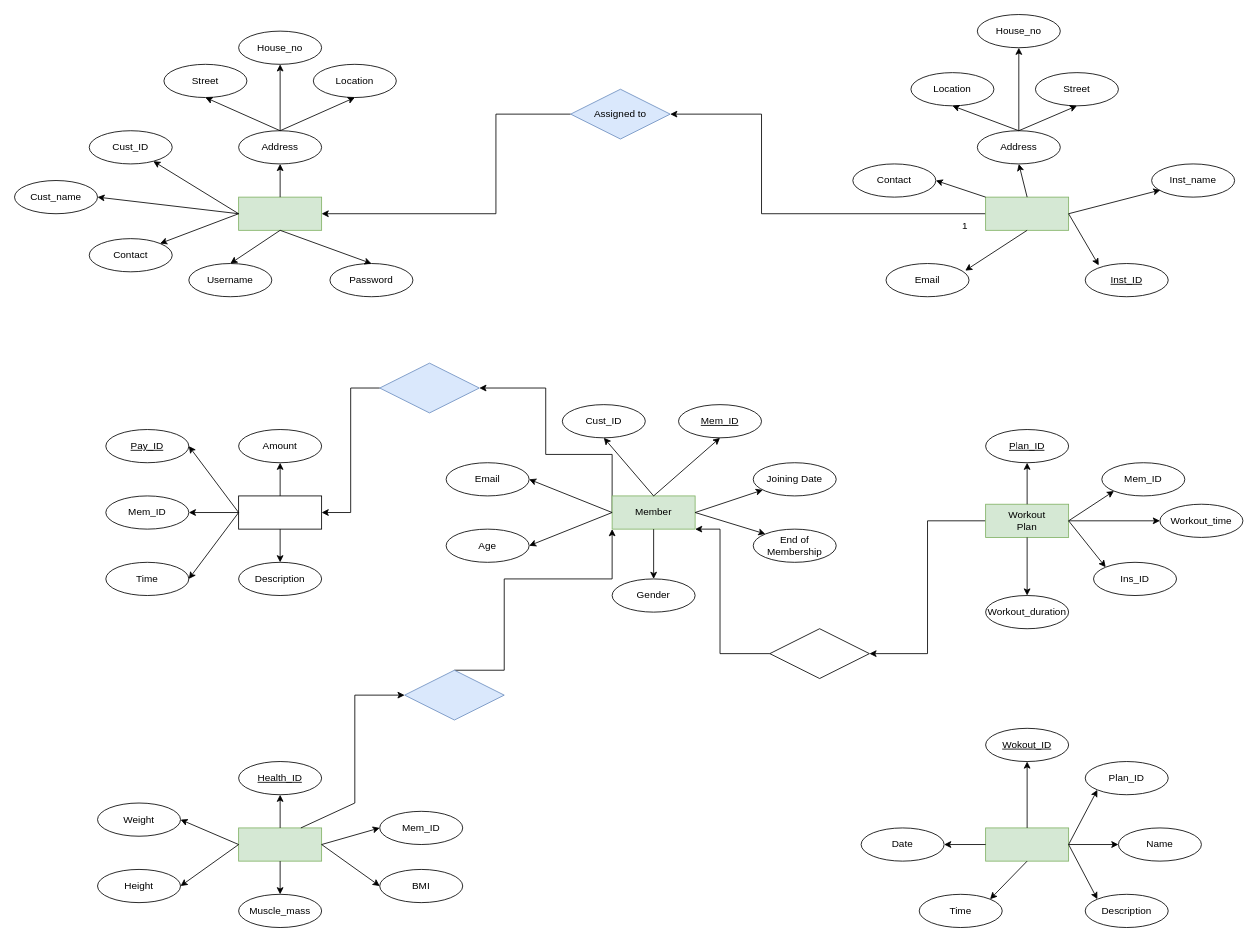
Image size: 1257x942. Some labels were removed from this diagram. Here are the shapes that lost their labels. From the top down, the centre of each, then its label:
At pixel 280 213: "Customer".
At pixel 1027 213: "Instructor".
At pixel 429 387: "Made by".
At pixel 280 512: "Payment".
At pixel 819 653: "Plan for".
At pixel 454 694: "Record of".
At pixel 280 844: "Health Record".
At pixel 1027 844: "Workout".
